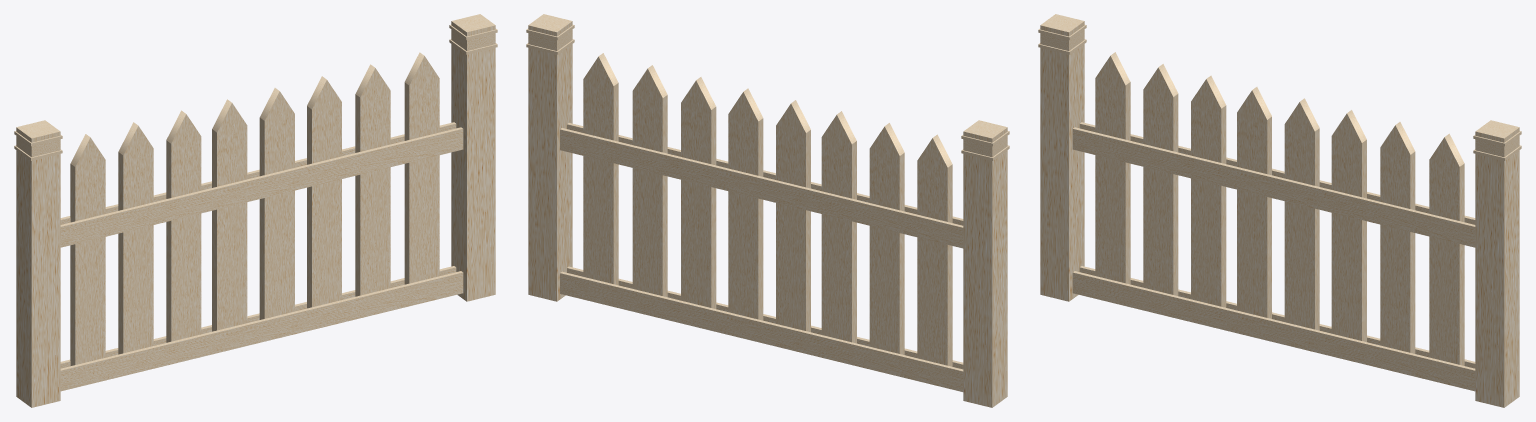
Rendered from Valla.FBX.
3 renders of one model, left to right at view 1: azimuth 30°, elevation 25°; view 2: azimuth 150°, elevation 25°; view 3: azimuth 330°, elevation 25°, orthographic.
Visible parts, largest first — view 1: Palo_Izquierda, Palo_Derecha, Soporte horizontal 1, Soporte horinzontal 3, Tabla_Vertical 7, Tabla_Vertical 2, Tabla_Vertical 3, Tabla_Vertical 1, Tabla_Vertical 5, Tabla_Vertical 8, Tabla_Vertical 4, Tabla_Vertical 6 (+2 smaller); view 2: Palo_Izquierda, Palo_Derecha, Soporte horizontal 4, Soporte horizontal 2, Tabla_Vertical 8, Tabla_Vertical 1, Tabla_Vertical 5, Tabla_Vertical 2, Tabla_Vertical 6, Tabla_Vertical 3, Tabla_Vertical 7, Tabla_Vertical 4 (+2 smaller); view 3: Palo_Derecha, Palo_Izquierda, Soporte horizontal 1, Soporte horinzontal 3, Tabla_Vertical 1, Tabla_Vertical 3, Tabla_Vertical 7, Tabla_Vertical 2, Tabla_Vertical 6, Tabla_Vertical 5, Tabla_Vertical 8, Tabla_Vertical 4 (+2 smaller).
Boxes of the visible parts, left/top/right/bottom form: Palo_Izquierda: left=14, top=120, right=62, bottom=407; Palo_Derecha: left=449, top=14, right=497, bottom=301; Soporte horizontal 1: left=60, top=271, right=463, bottom=391; Soporte horinzontal 3: left=60, top=127, right=463, bottom=247; Tabla_Vertical 7: left=355, top=64, right=390, bottom=296; Tabla_Vertical 2: left=118, top=122, right=153, bottom=354; Tabla_Vertical 3: left=166, top=110, right=201, bottom=342; Tabla_Vertical 1: left=70, top=134, right=105, bottom=365; Tabla_Vertical 5: left=259, top=88, right=294, bottom=319; Tabla_Vertical 8: left=404, top=52, right=439, bottom=284; Tabla_Vertical 4: left=212, top=99, right=247, bottom=331; Tabla_Vertical 6: left=307, top=76, right=341, bottom=308; Palo_Izquierda: left=961, top=120, right=1009, bottom=407; Palo_Derecha: left=526, top=14, right=574, bottom=301; Soporte horizontal 4: left=560, top=128, right=963, bottom=248; Soporte horizontal 2: left=560, top=271, right=963, bottom=391; Tabla_Vertical 8: left=583, top=53, right=618, bottom=284; Tabla_Vertical 1: left=917, top=134, right=952, bottom=366; Tabla_Vertical 5: left=728, top=88, right=763, bottom=320; Tabla_Vertical 2: left=869, top=123, right=904, bottom=354; Tabla_Vertical 6: left=681, top=77, right=716, bottom=308; Tabla_Vertical 3: left=821, top=111, right=856, bottom=343; Tabla_Vertical 7: left=632, top=65, right=667, bottom=297; Tabla_Vertical 4: left=776, top=100, right=810, bottom=332; Palo_Derecha: left=1473, top=120, right=1521, bottom=407; Palo_Izquierda: left=1038, top=14, right=1086, bottom=301; Soporte horizontal 1: left=1072, top=271, right=1475, bottom=391; Soporte horinzontal 3: left=1072, top=127, right=1475, bottom=247; Tabla_Vertical 1: left=1095, top=52, right=1130, bottom=284; Tabla_Vertical 3: left=1191, top=75, right=1226, bottom=307; Tabla_Vertical 7: left=1380, top=122, right=1415, bottom=353; Tabla_Vertical 2: left=1143, top=64, right=1178, bottom=295; Tabla_Vertical 6: left=1331, top=110, right=1366, bottom=341; Tabla_Vertical 5: left=1284, top=98, right=1319, bottom=330; Tabla_Vertical 8: left=1429, top=133, right=1464, bottom=365; Tabla_Vertical 4: left=1237, top=87, right=1271, bottom=318.
Bounding box in the file's own units: 90.58 × 49.98 × 5.68.
1 material, 1 textured.
